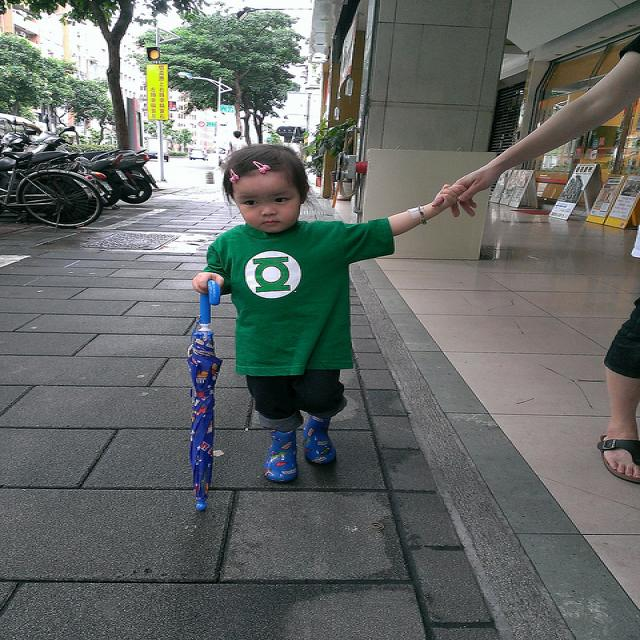motor: (33, 115, 129, 206), (119, 147, 163, 205)
